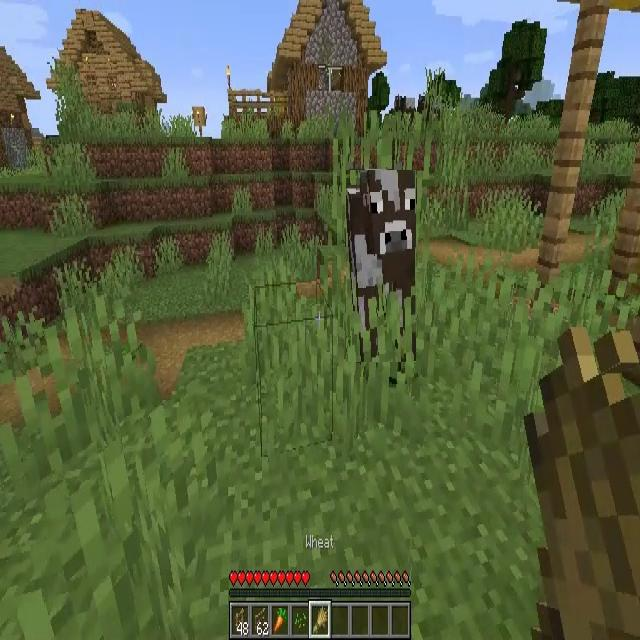cow: (346, 170, 416, 362)
